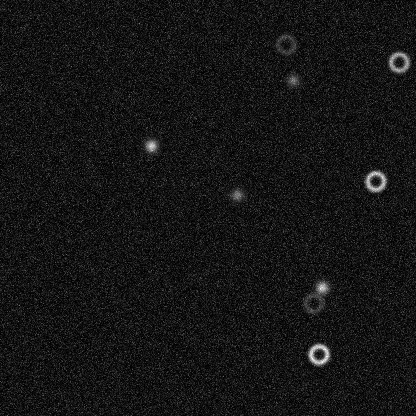Ring: (274, 32, 298, 56), (386, 50, 410, 74), (301, 291, 325, 315), (306, 342, 330, 366), (363, 169, 387, 193)
Spot: (285, 72, 301, 88), (229, 186, 245, 202), (143, 137, 159, 153), (314, 279, 330, 295)
